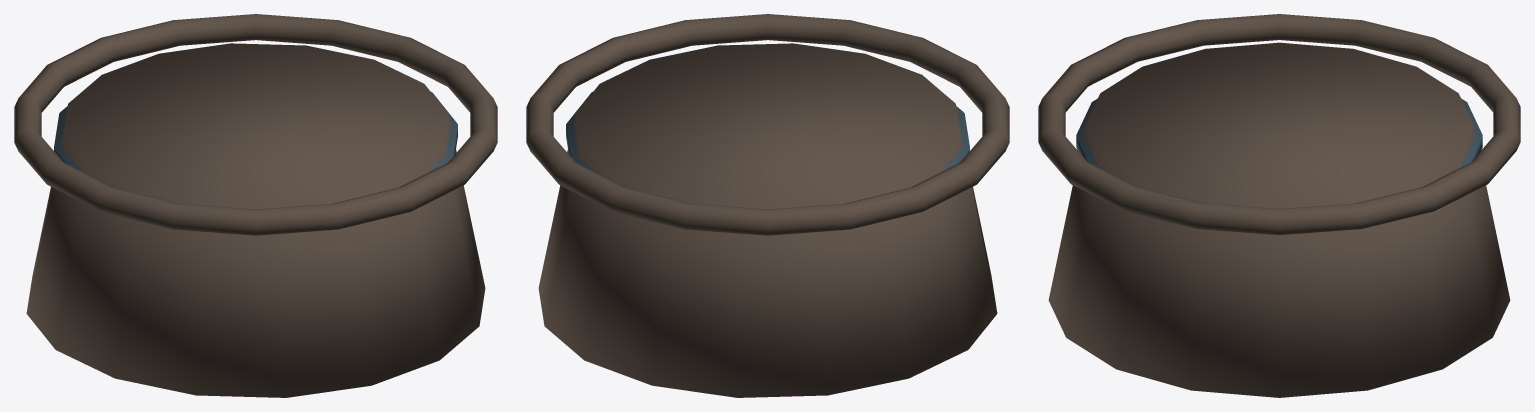
File: prop_tarai.glb
3 renders of one model, left to right at view 1: azimuth 30°, elevation 25°; view 2: azimuth 150°, elevation 25°; view 3: azimuth 270°, elevation 25°, orthographic.
Visible parts, largest first — view 1: tarai; view 2: tarai; view 3: tarai.
Boxes of the visible parts, bbox=[...] form: tarai: bbox=[14, 14, 497, 397]; tarai: bbox=[526, 14, 1009, 397]; tarai: bbox=[1038, 14, 1520, 397].
Bounding box in the file's own units: 1.06 × 0.45 × 1.04.
